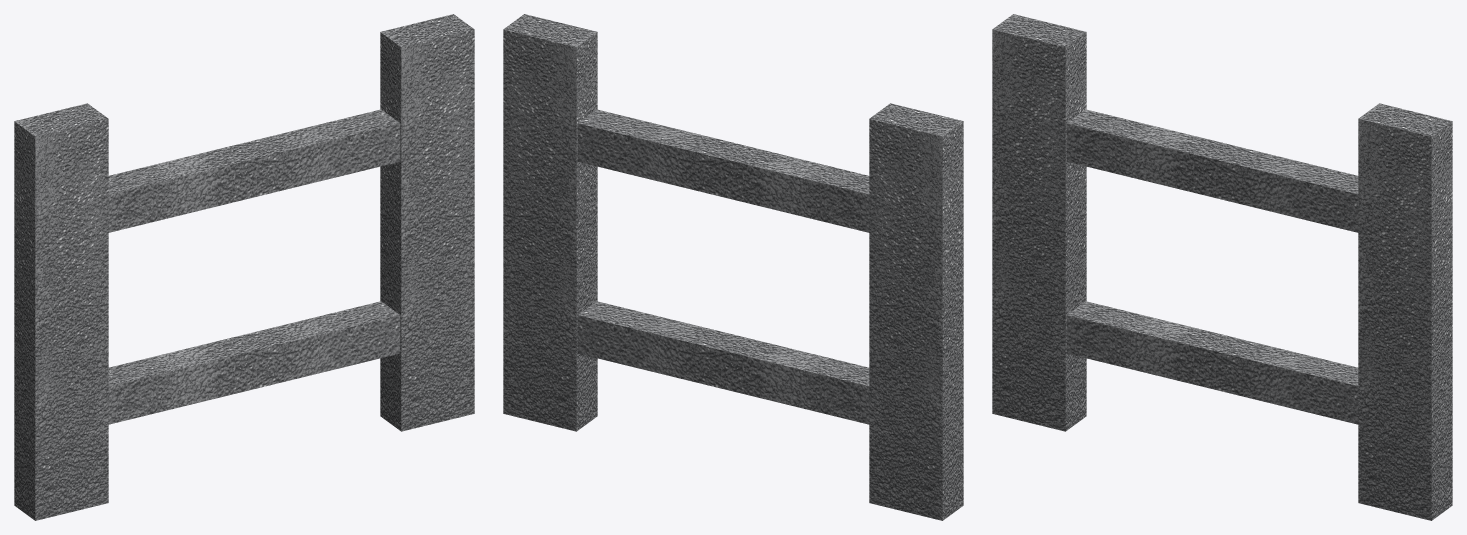
File: merdiven.fbx
3 views of the same model, side by side, from view 1: azimuth 30°, elevation 25°; view 2: azimuth 150°, elevation 25°; view 3: azimuth 330°, elevation 25° (orthographic).
Visible parts, largest first — view 1: Cube.031, Cube.030, Cube.033, Cube.032; view 2: Cube.031, Cube.030, Cube.033, Cube.032; view 3: Cube.030, Cube.031, Cube.033, Cube.032.
Part boxes in pixels (left/top/right/bottom): Cube.031: left=14, top=103, right=108, bottom=520; Cube.030: left=380, top=14, right=474, bottom=431; Cube.033: left=108, top=109, right=400, bottom=232; Cube.032: left=108, top=301, right=400, bottom=424; Cube.031: left=869, top=103, right=963, bottom=520; Cube.030: left=503, top=14, right=597, bottom=431; Cube.033: left=577, top=109, right=869, bottom=232; Cube.032: left=577, top=301, right=869, bottom=424; Cube.030: left=1358, top=103, right=1452, bottom=520; Cube.031: left=992, top=14, right=1086, bottom=431; Cube.033: left=1066, top=109, right=1358, bottom=232; Cube.032: left=1066, top=301, right=1358, bottom=424.
Bounding box in the file's own units: 59.84 × 50 × 5.
1 material, 1 textured.
